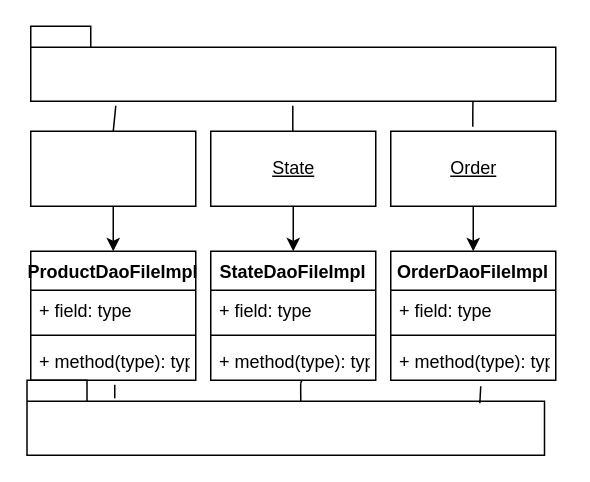
Some shapes in this 590 by 482 pixel diagram are drawn without their labels. The shapes that lost their labels are listed below. From the top down, each one's centre as x and y in pixels, then its label:
At (x=292, y=63): "DTO".
At (x=112, y=168): "Product".
At (x=285, y=417): "DAO".
